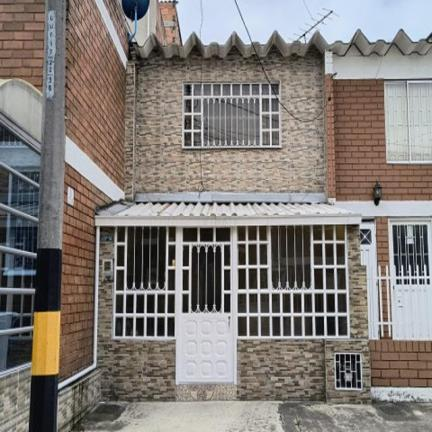casa: (96, 33, 370, 401)
